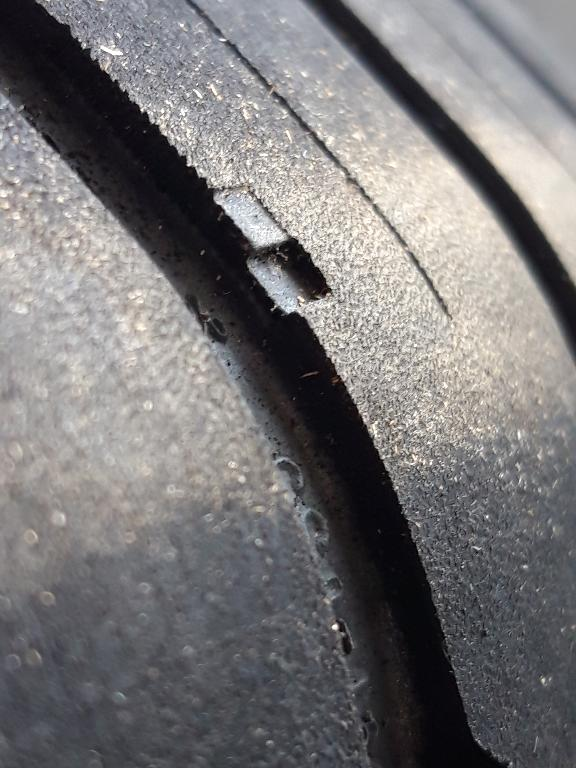temoin:25: (179, 176, 343, 342)
